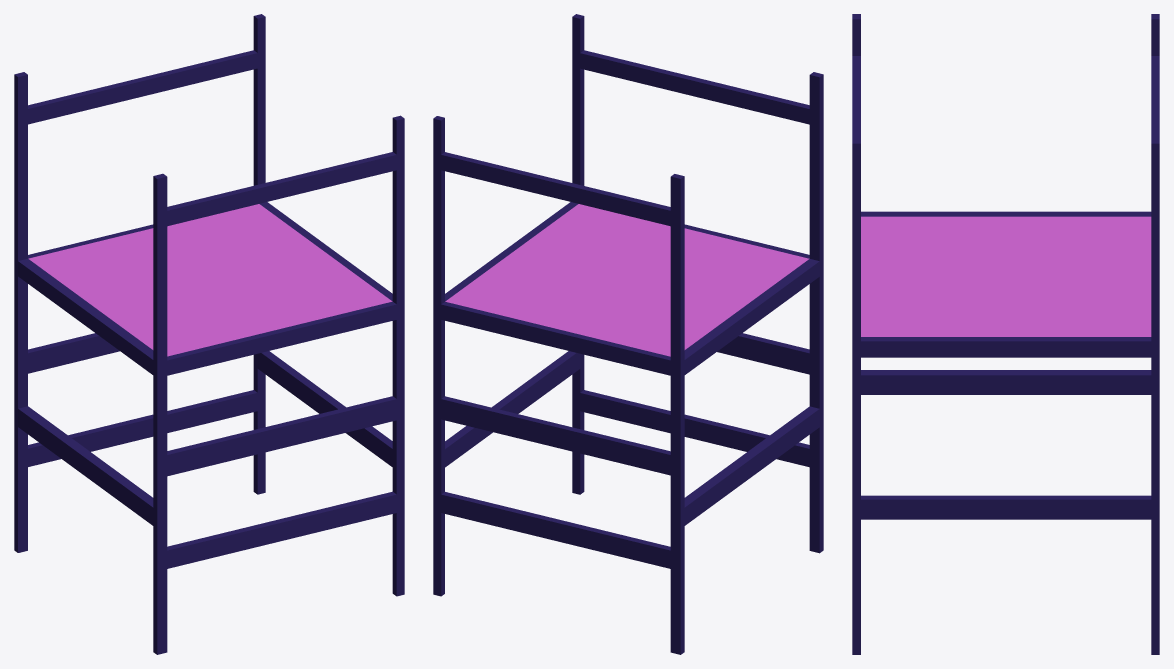
The model's file is CityPlatform.fbx.
The picture shows the model from 3 angles, left to right: view 1: azimuth 30°, elevation 25°; view 2: azimuth 150°, elevation 25°; view 3: azimuth 270°, elevation 25°; orthographic projection. The views are drawn at different scales.
Visible parts, largest first — view 1: pCube18; view 2: pCube18; view 3: pCube18.
Boxes of the visible parts, x1,y1,x2,y2 form: pCube18: (14,14,404,654); pCube18: (433,14,823,654); pCube18: (852,14,1159,654).
Bounding box in the file's own units: 6.73 × 12.36 × 6.73.
